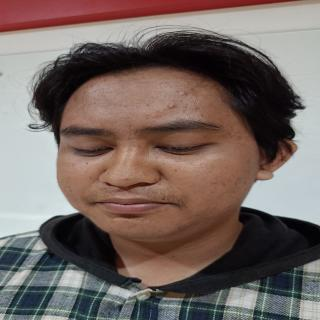Sedih: (50, 69, 271, 250)
